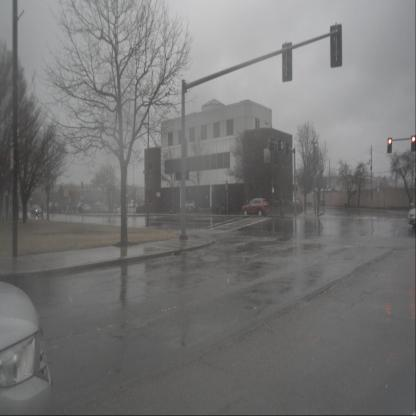vehicle-car: (242, 197, 270, 217), (181, 198, 198, 212), (211, 202, 228, 214), (30, 205, 43, 217), (290, 198, 299, 206)
